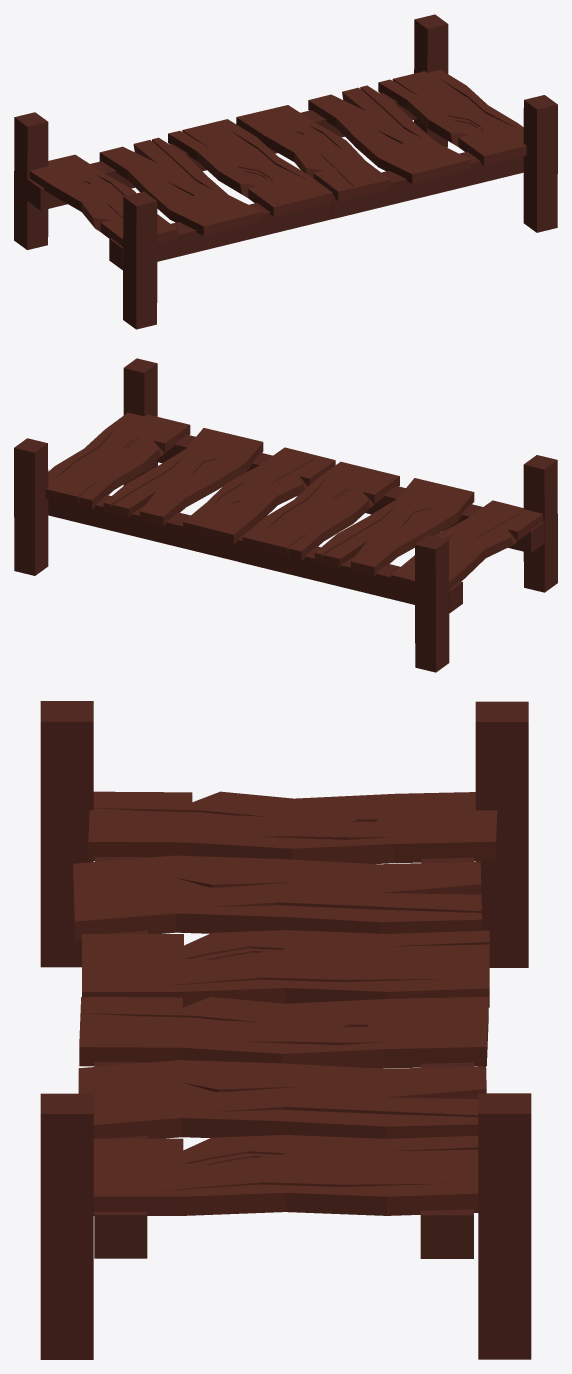
Rendered from Port.fbx.
The picture shows the model from 3 angles, top to bottom: view 1: azimuth 30°, elevation 25°; view 2: azimuth 150°, elevation 25°; view 3: azimuth 270°, elevation 25°; orthographic projection. The views are drawn at different scales.
Parts seen in each view (by area): view 1: Cubo.013, Cubo.023, Cubo.015, Cubo.021, Cubo.024, Cubo.016, Cubo.019, Cubo.018, Cubo.020, Cubo.014, Cubo.022, Cubo.012 (+2 smaller); view 2: Cubo.013, Cubo.023, Cubo.015, Cubo.021, Cubo.024, Cubo.016, Cubo.020, Cubo.012, Cubo.017, Cubo.011, Cubo.019, Cubo.018 (+2 smaller); view 3: Cubo.015, Cubo.021, Cubo.023, Cubo.013, Cubo.024, Cubo.016, Cubo.012, Cubo.018, Cubo.020, Cubo.019, Cubo.011, Cubo.022.
Boxes of the visible parts, <box> form: Cubo.013: <box>168,119,332,216</box>; Cubo.023: <box>308,85,471,183</box>; Cubo.015: <box>99,137,262,235</box>; Cubo.021: <box>378,69,526,165</box>; Cubo.024: <box>236,105,390,201</box>; Cubo.016: <box>29,154,177,246</box>; Cubo.019: <box>123,191,157,329</box>; Cubo.018: <box>523,95,557,232</box>; Cubo.020: <box>14,112,48,249</box>; Cubo.014: <box>109,202,332,270</box>; Cubo.022: <box>332,151,523,218</box>; Cubo.012: <box>414,14,448,147</box>; Cubo.013: <box>242,461,399,560</box>; Cubo.023: <box>103,428,263,526</box>; Cubo.015: <box>314,478,474,576</box>; Cubo.021: <box>45,412,190,509</box>; Cubo.024: <box>183,447,335,544</box>; Cubo.016: <box>391,500,542,590</box>; Cubo.020: <box>415,535,449,672</box>; Cubo.012: <box>14,438,48,575</box>; Cubo.017: <box>239,539,462,613</box>; Cubo.011: <box>48,495,249,561</box>; Cubo.019: <box>523,455,557,592</box>; Cubo.018: <box>123,358,157,485</box>; Cubo.015: <box>73,855,482,940</box>; Cubo.021: <box>93,1135,478,1215</box>; Cubo.023: <box>78,1060,486,1138</box>; Cubo.013: <box>82,930,489,1007</box>; Cubo.024: <box>79,996,488,1068</box>; Cubo.016: <box>88,791,497,863</box>; Cubo.012: <box>478,1093,531,1359</box>; Cubo.018: <box>40,1093,93,1359</box>; Cubo.020: <box>475,701,528,967</box>; Cubo.019: <box>40,701,93,967</box>; Cubo.011: <box>420,1062,473,1258</box>; Cubo.022: <box>94,1062,147,1258</box>.
Size of the model in its own units: 1194 by 336 by 602.
